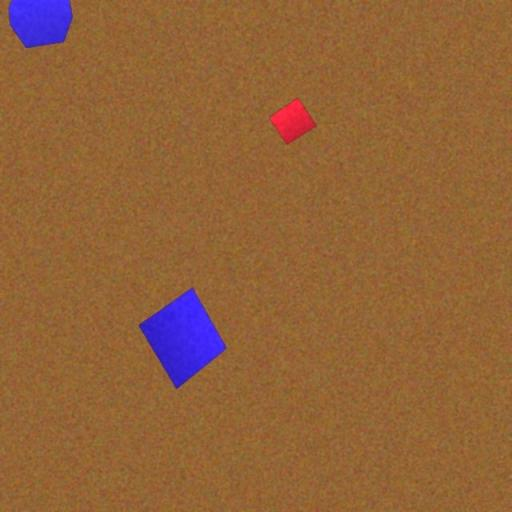BLUE_SQUARE: (138, 287, 227, 390)
RED_SQUARE: (268, 96, 318, 146)
